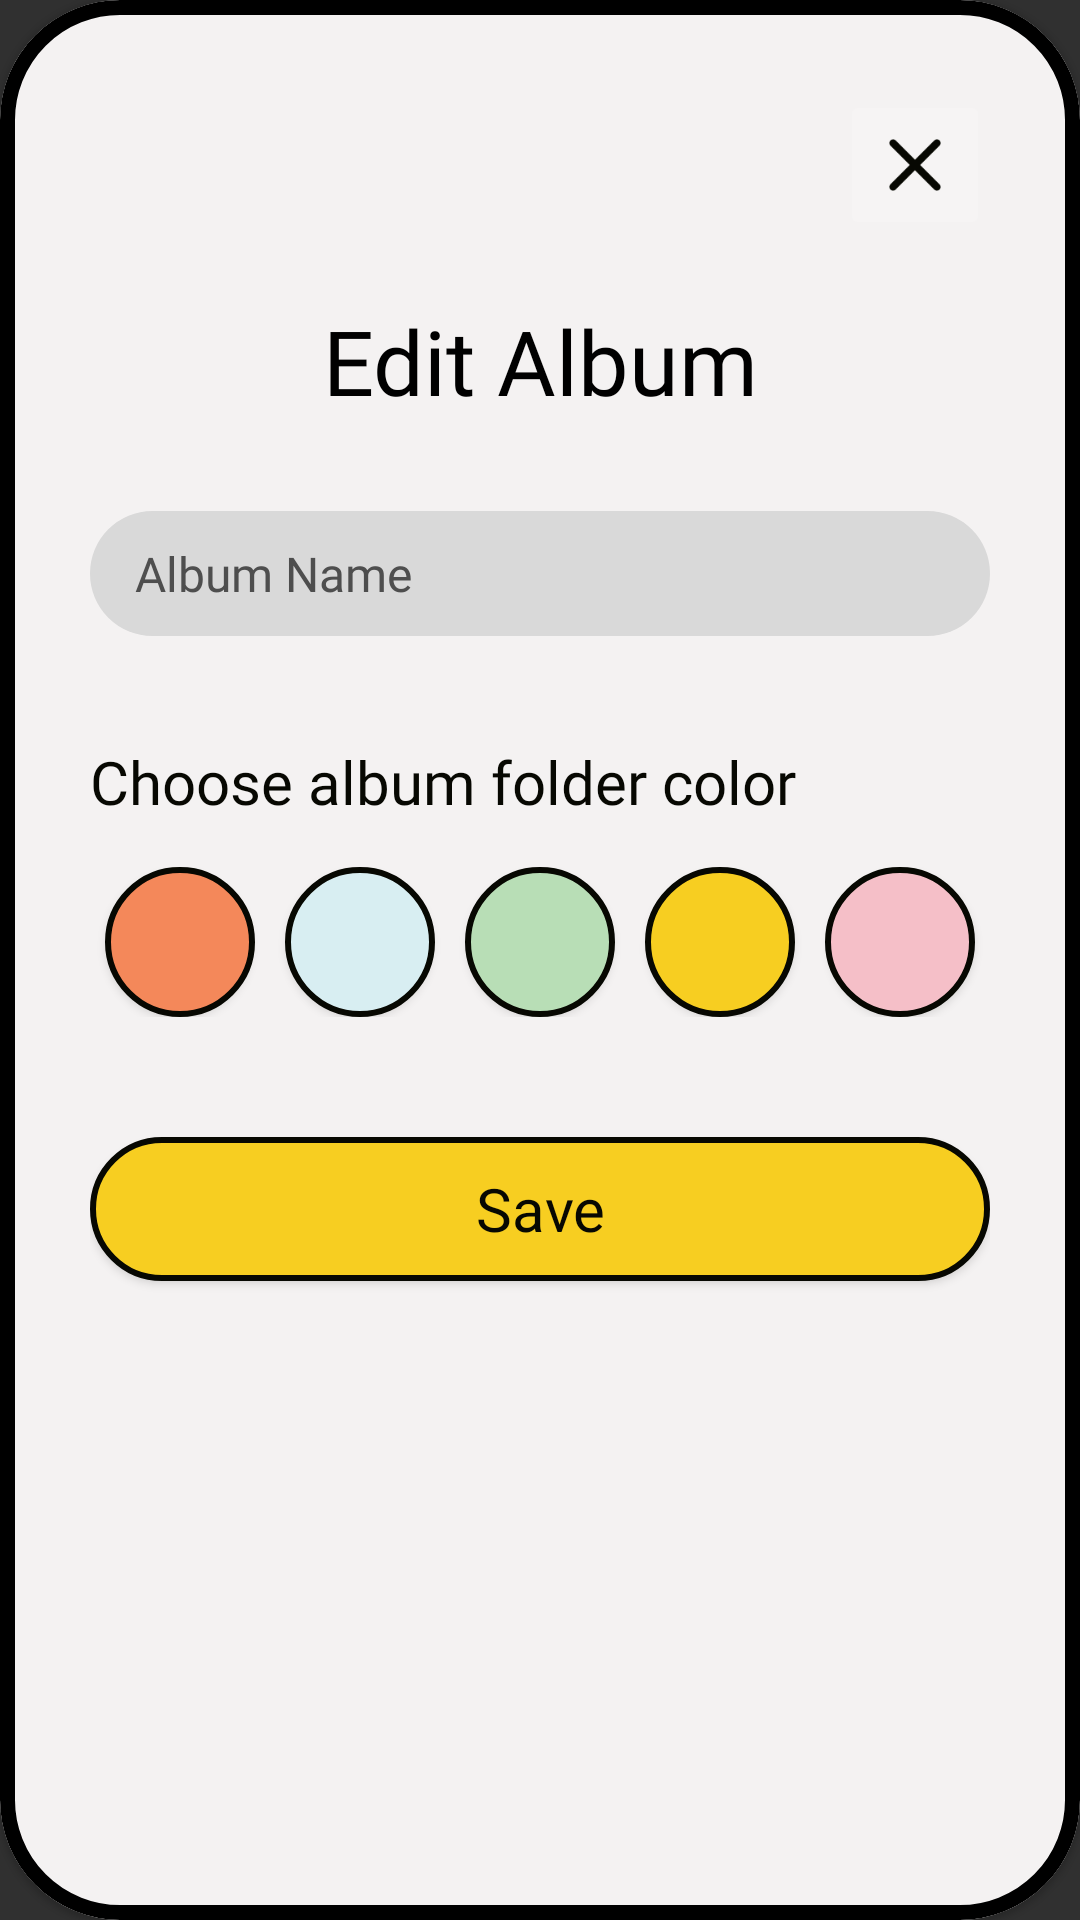

Icon click points for this 1080 × 1920 phone screenshot, format (x=x, y=y):
close: (x=915, y=165)
